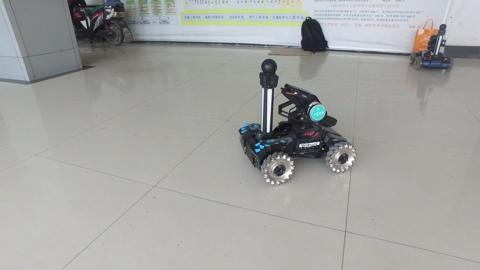bag: (299, 13, 331, 54), (413, 16, 440, 55)
chariot: (237, 56, 357, 186), (408, 22, 454, 72)
